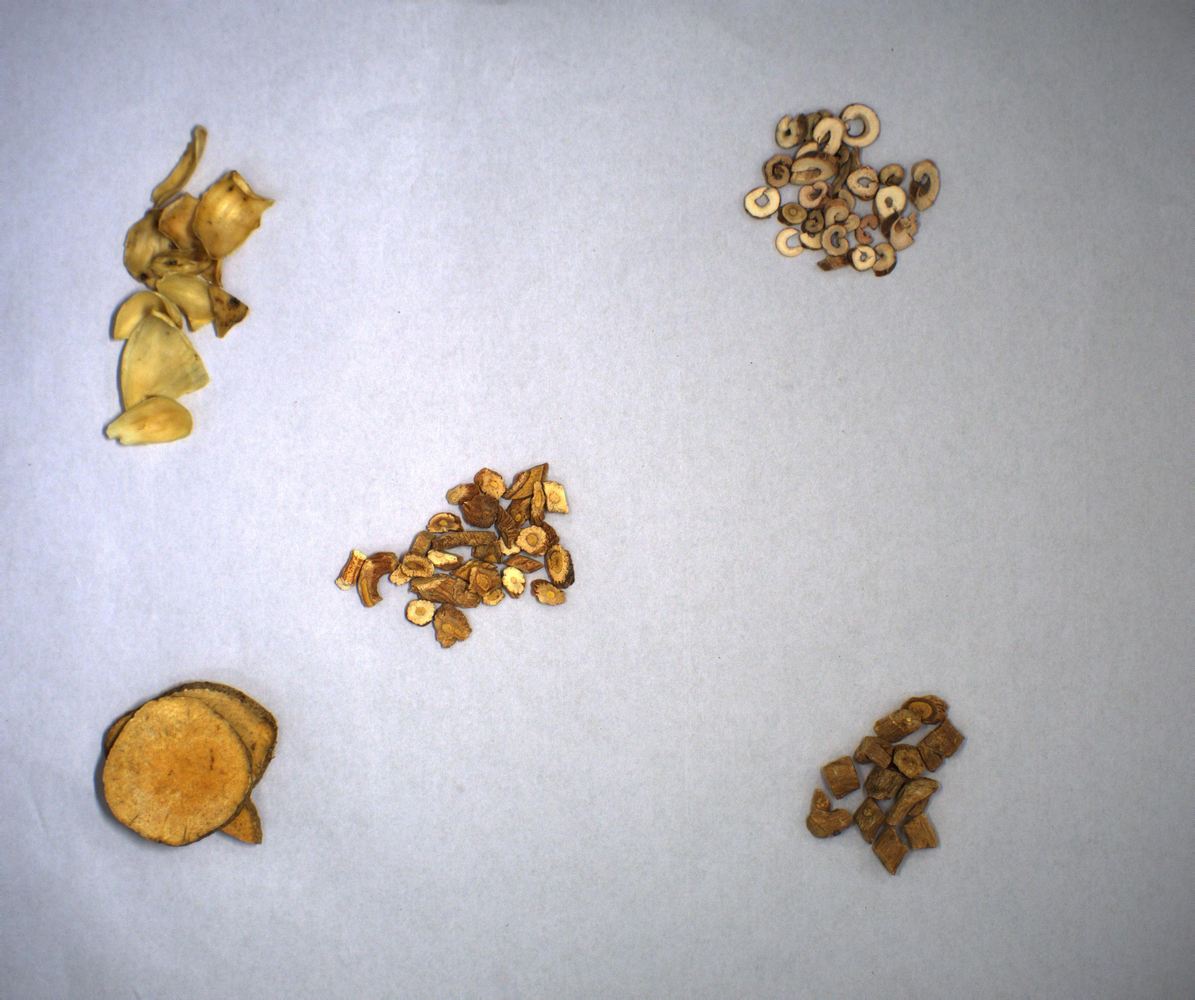baihe: (101, 120, 279, 453)
banlangen: (330, 460, 598, 656)
mudanpi: (741, 104, 956, 293)
niuxi: (789, 681, 970, 893)
zexie: (93, 677, 285, 863)
